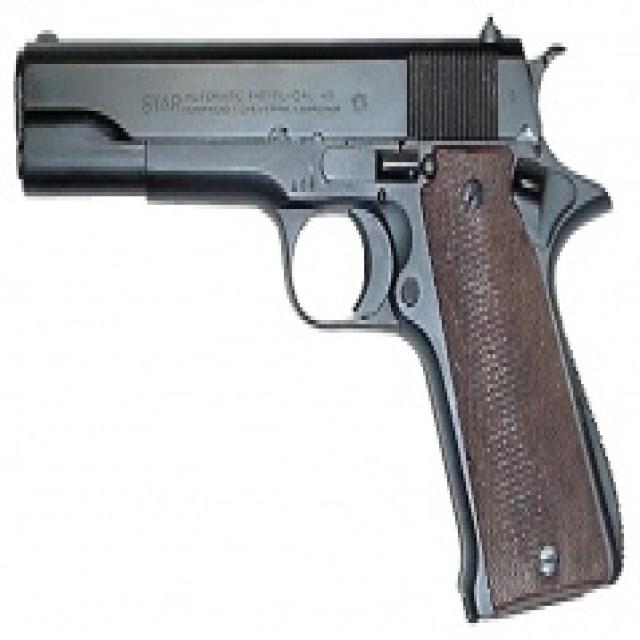pistol: (11, 10, 631, 626)
